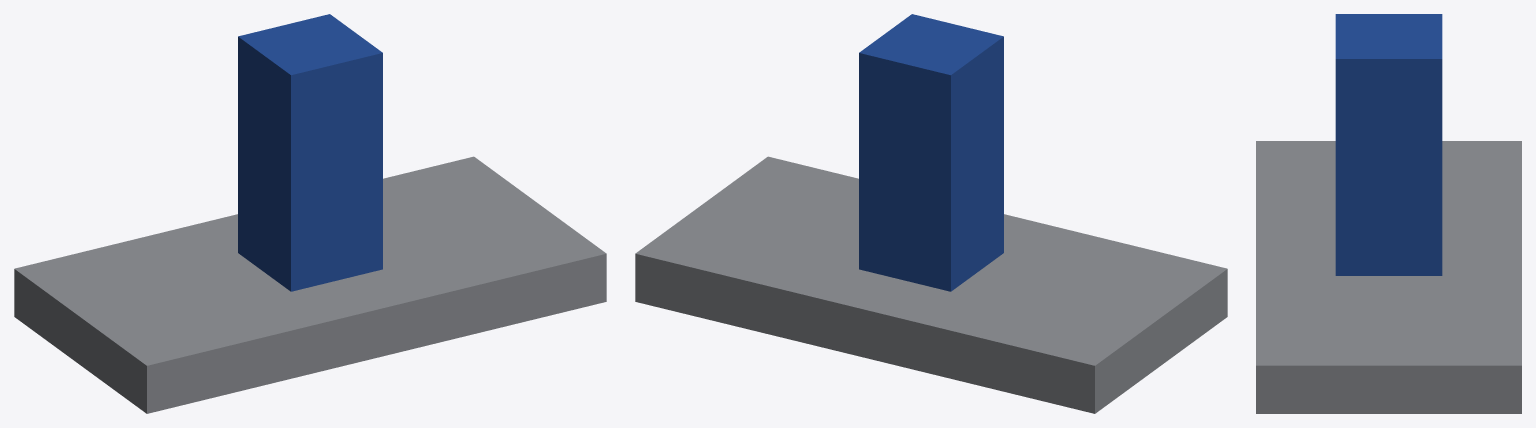
File: bracket.obj
3 views of the same model, side by side, from view 1: azimuth 30°, elevation 25°; view 2: azimuth 150°, elevation 25°; view 3: azimuth 270°, elevation 25° (orthographic).
Visible parts, largest first — view 1: Base, Post; view 2: Base, Post; view 3: Base, Post.
Part boxes in pixels (left/top/right/bottom): Base: left=14, top=156, right=606, bottom=413; Post: left=238, top=14, right=382, bottom=291; Base: left=635, top=156, right=1227, bottom=413; Post: left=859, top=14, right=1003, bottom=291; Base: left=1256, top=141, right=1521, bottom=413; Post: left=1335, top=14, right=1442, bottom=275.
Bounding box in the file's own units: 4 × 2.2 × 2.
